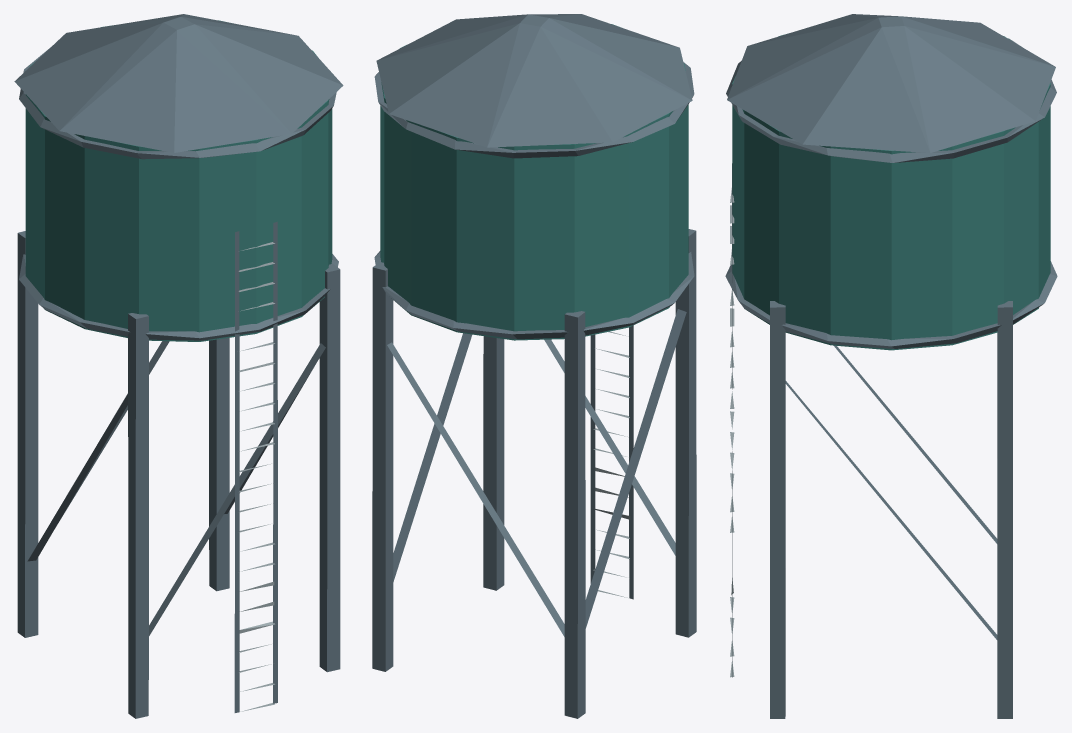
The model's file is architecture-water-tower.lod2.glb.
3 renders of one model, left to right at view 1: azimuth 30°, elevation 25°; view 2: azimuth 150°, elevation 25°; view 3: azimuth 270°, elevation 25°, orthographic. The views are drawn at different scales.
Parts seen in each view (by area): view 1: architecture-water-tower__body; view 2: architecture-water-tower__body; view 3: architecture-water-tower__body.
Part boxes in pixels (x1,y1,x2,y2): architecture-water-tower__body: (14, 14, 343, 718); architecture-water-tower__body: (372, 14, 696, 718); architecture-water-tower__body: (725, 14, 1057, 718).
Bounding box in the file's own units: 4.38 × 9.4 × 4.38.
